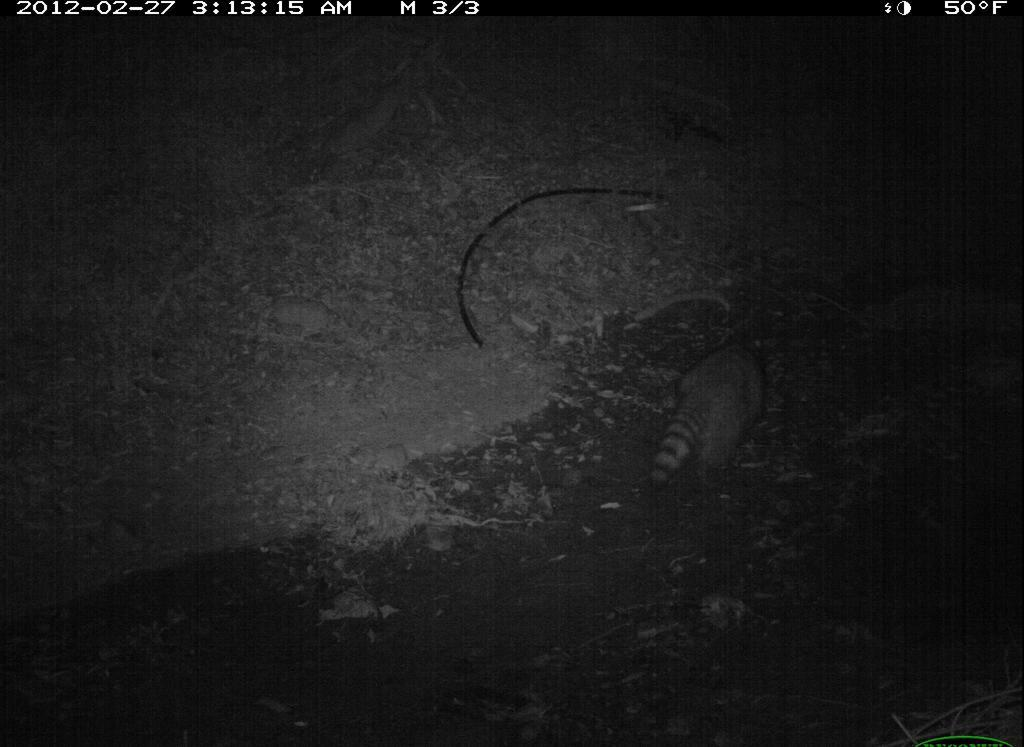raccoon: (637, 326, 788, 493)
